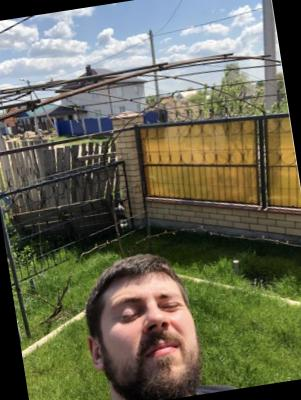without_mask: (102, 279, 206, 400)
